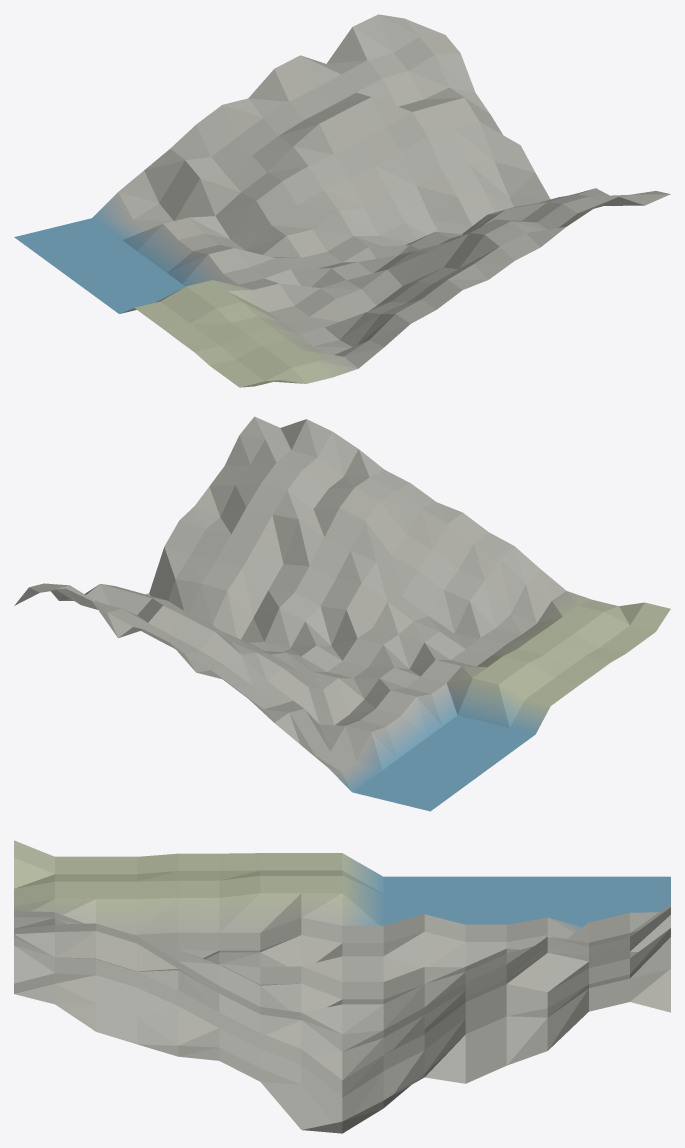
3 renders of one model, top to bottom at view 1: azimuth 30°, elevation 25°; view 2: azimuth 150°, elevation 25°; view 3: azimuth 270°, elevation 25°, orthographic. The views are drawn at different scales.
Size of the model in its own units: 32 by 9.83 by 32.
